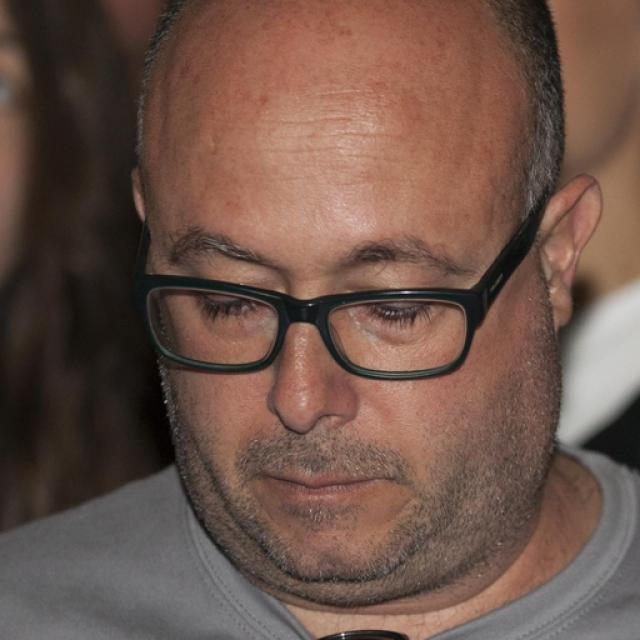neutral: (140, 3, 560, 609)
